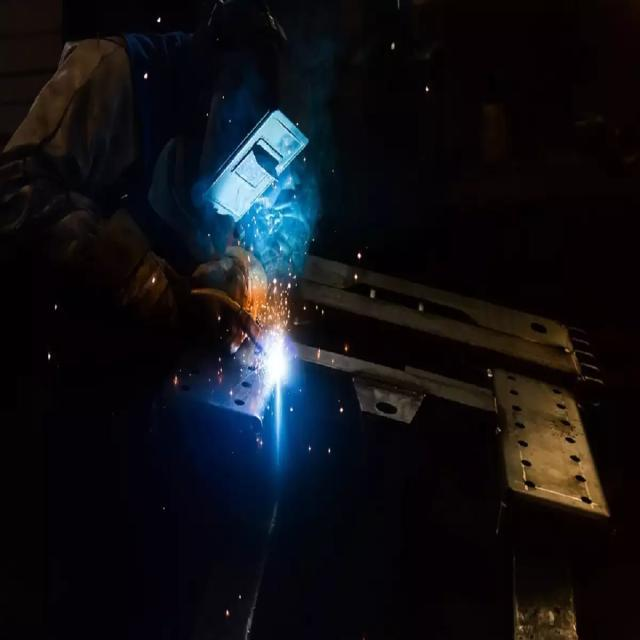with_helmet: (136, 3, 307, 257)
